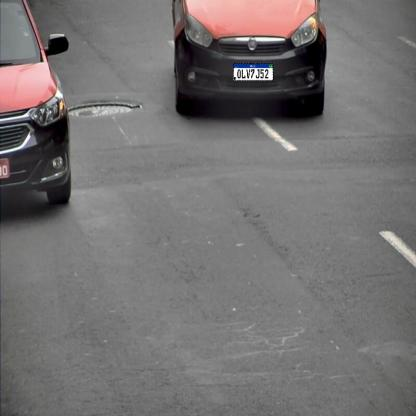PlacaM: (233, 63, 273, 81)
